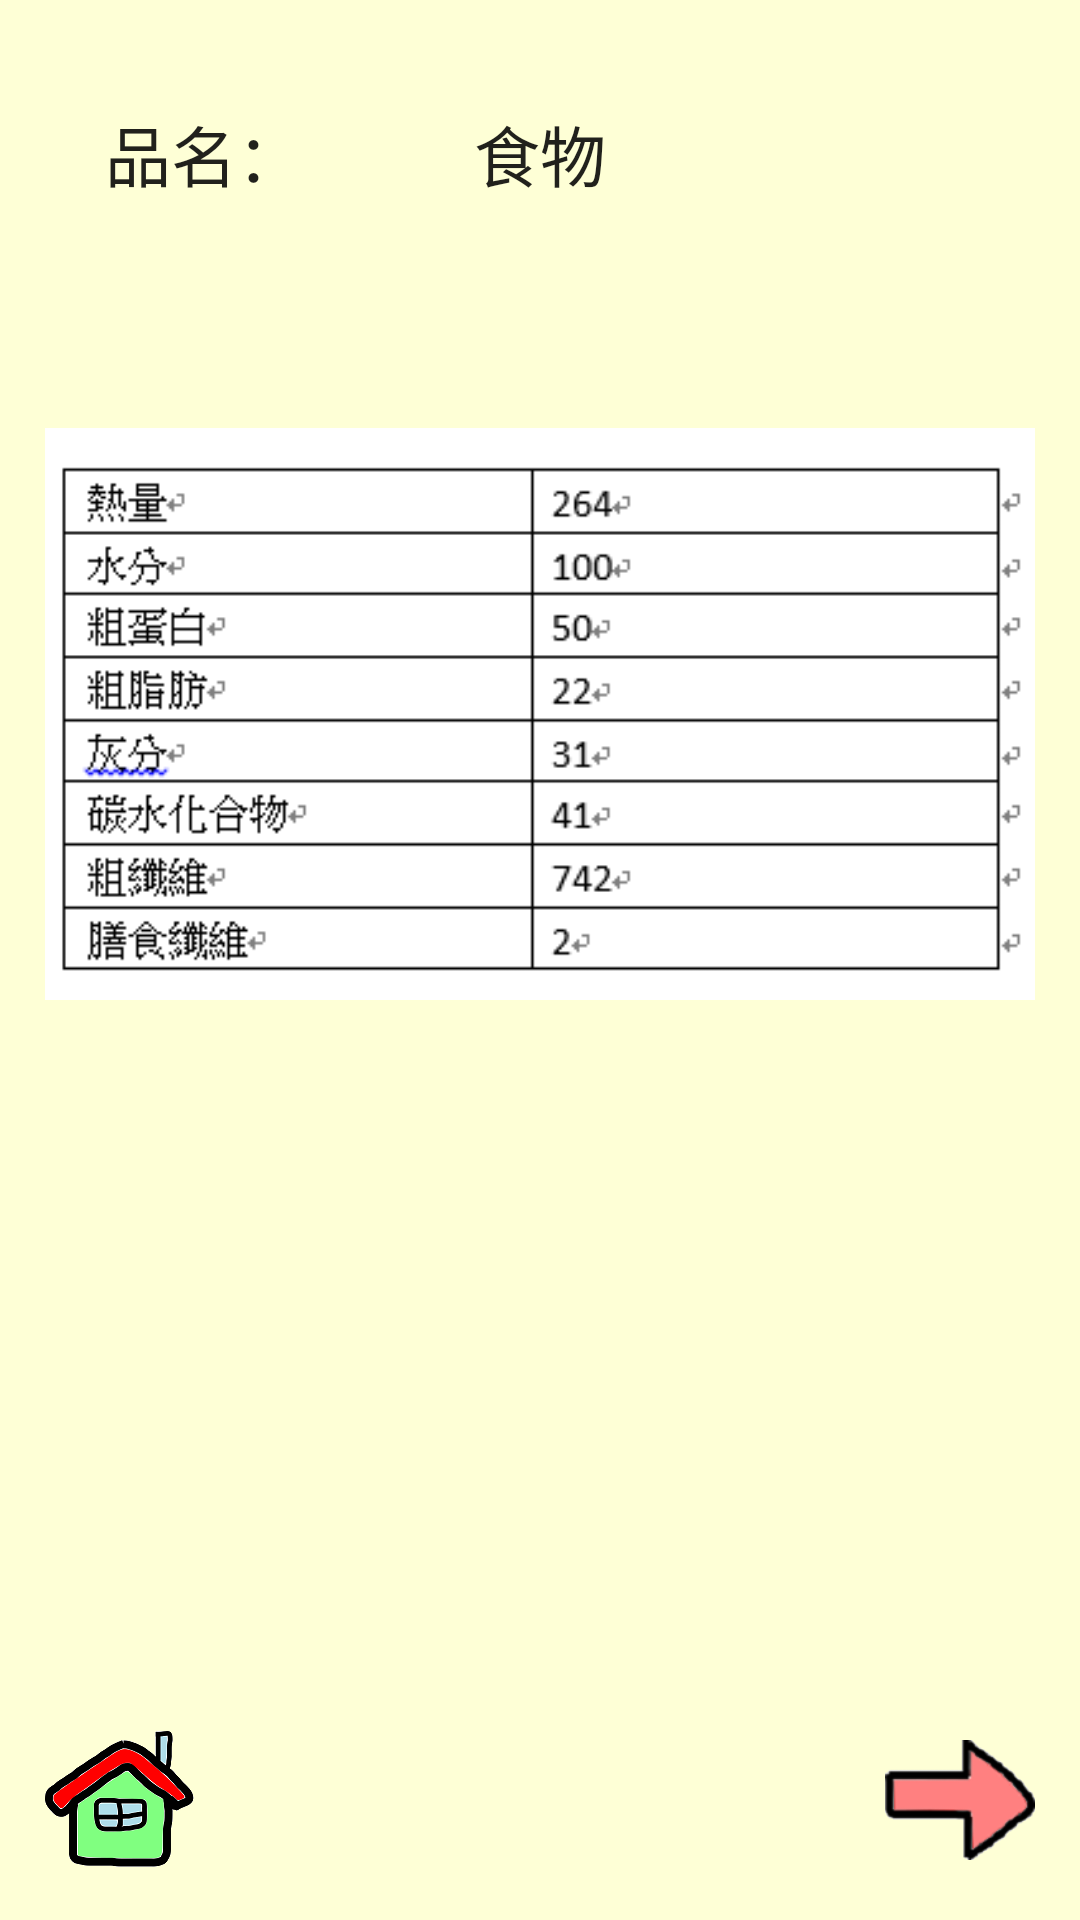

Where icons sit on this 1080 x 1920 app screen, as {"x1": x1, "y1": y1, "x2": x2, "y2": y2}:
home: {"x1": 45, "y1": 1731, "x2": 194, "y2": 1867}
next: {"x1": 885, "y1": 1740, "x2": 1035, "y2": 1860}
